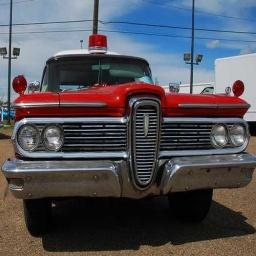ambulance: (2, 35, 255, 235)
